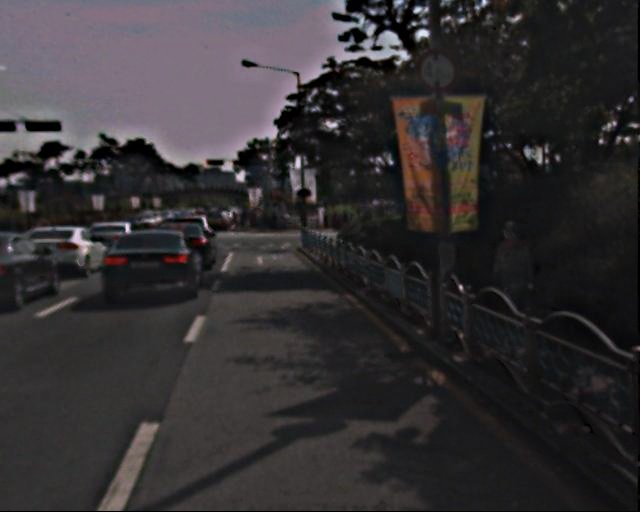person: (484, 218, 539, 349)
